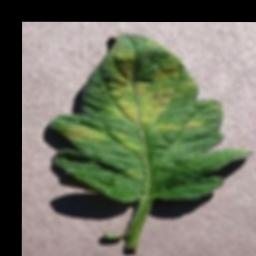Leaf_Mold: (99, 38, 203, 134), (55, 123, 107, 143)
